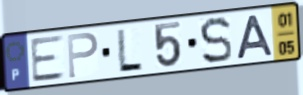5: (151, 21, 183, 70)
A: (234, 13, 275, 61)
E: (29, 33, 68, 85)
L: (115, 27, 145, 73)
P: (65, 31, 100, 81)
S: (198, 15, 234, 67)
